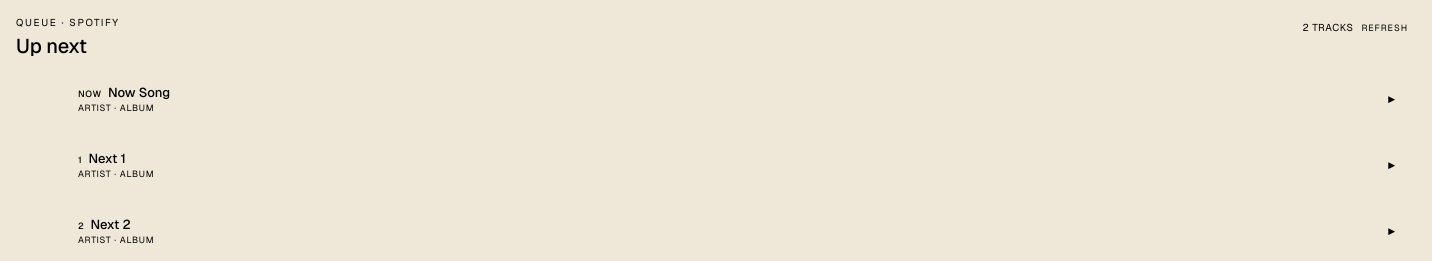
SpotifyQueueCard › a failed Refresh keeps the queue on screen and flags it as possibly stale
Click the button "Refresh": (1385, 28) [1353, 16, 1416, 40]
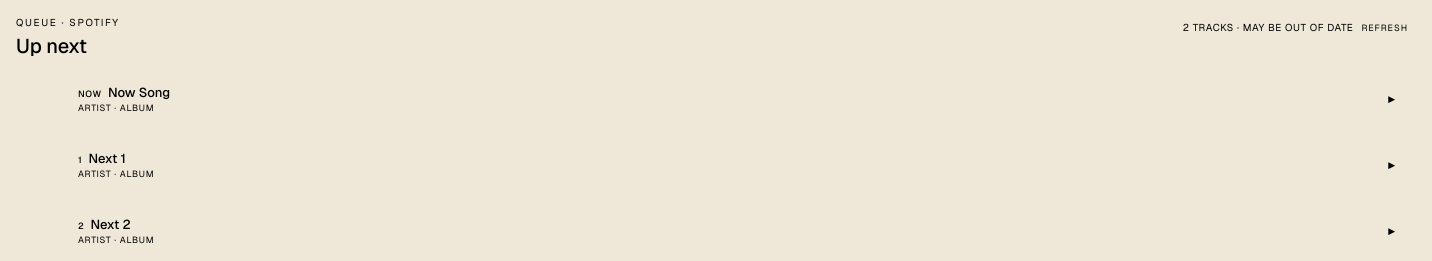
Expected: the text "Next 1" is shown, [88, 150, 126, 166]
Now the text with class "meta" reads "2 tracks · may be out of date", box [1183, 21, 1353, 34]
Click the button "Refresh": (1385, 28) [1353, 16, 1416, 40]
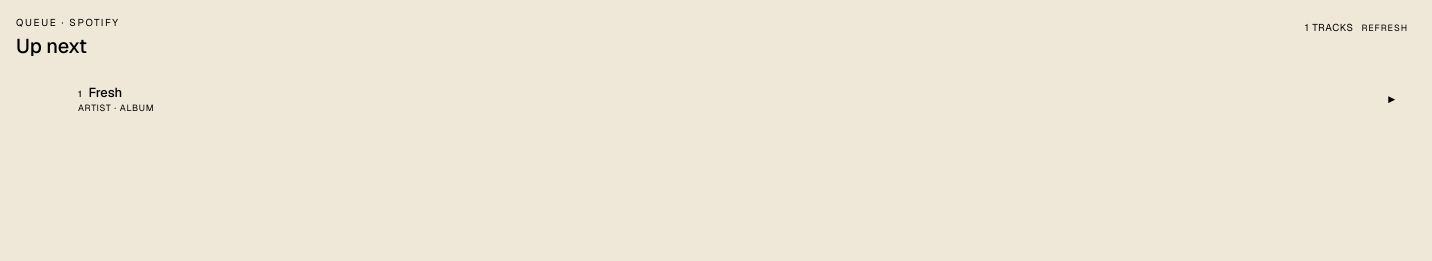
Now the text with class "meta" reads "1 tracks", box [1305, 21, 1353, 34]
